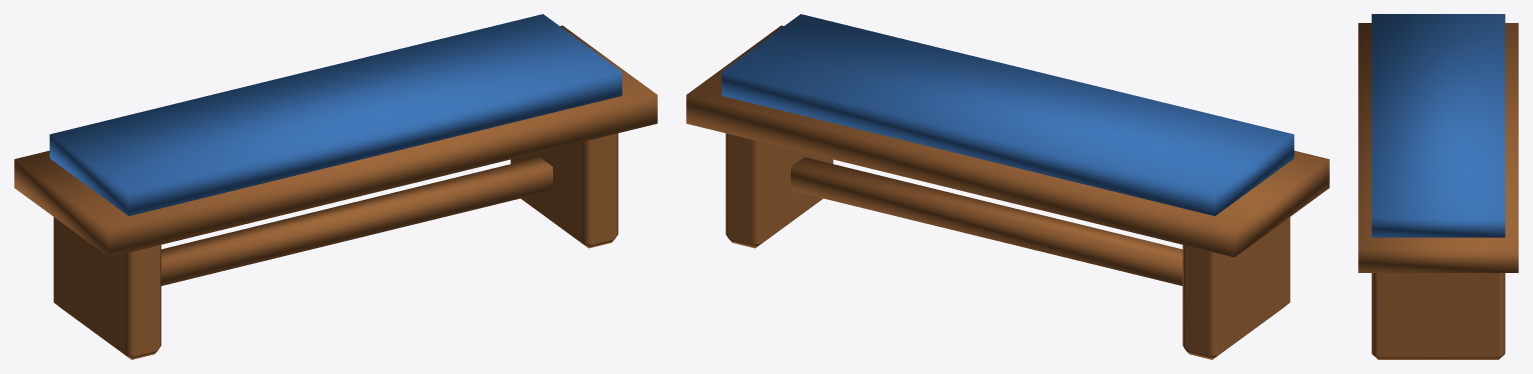
Rendered from bench_in.glb.
3 views of the same model, side by side, from view 1: azimuth 30°, elevation 25°; view 2: azimuth 150°, elevation 25°; view 3: azimuth 270°, elevation 25° (orthographic). The views are drawn at different scales.
Visible parts, largest first — view 1: bench_in; view 2: bench_in; view 3: bench_in.
Part boxes in pixels (x1,y1,x2,y2): bench_in: (14, 14, 657, 359); bench_in: (686, 14, 1329, 359); bench_in: (1358, 14, 1518, 359).
Size of the model in its own units: 1.2 by 0.36 by 0.36.
